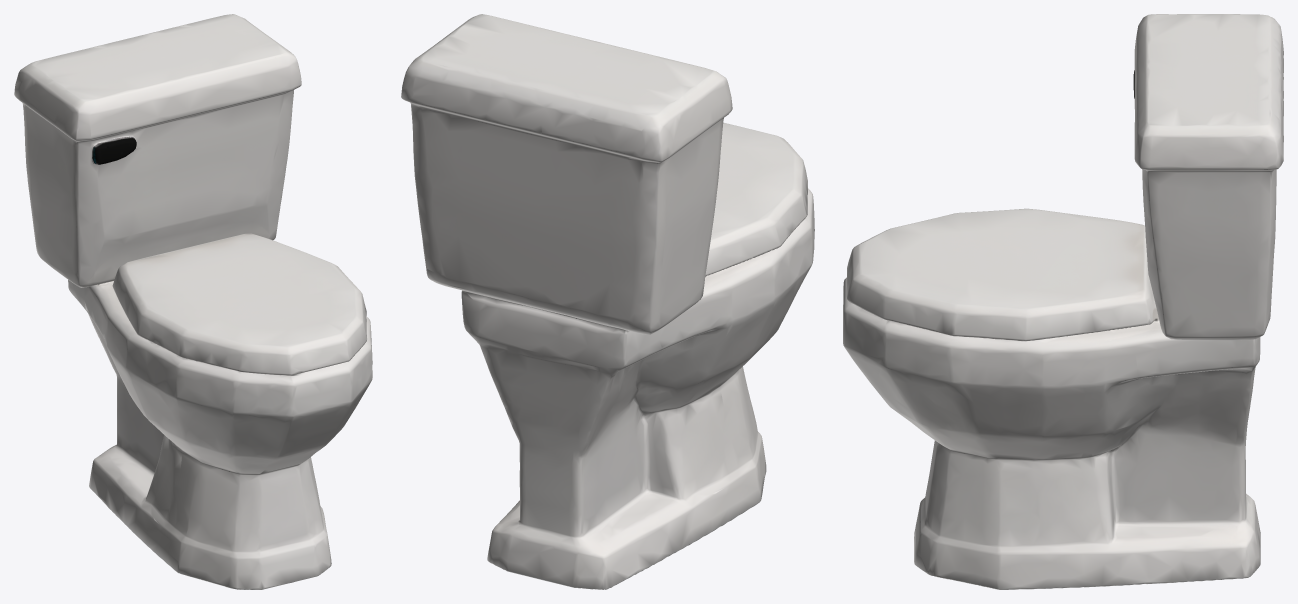
The model's file is toilet_lod.glb.
3 renders of one model, left to right at view 1: azimuth 30°, elevation 25°; view 2: azimuth 150°, elevation 25°; view 3: azimuth 270°, elevation 25°, orthographic. The views are drawn at different scales.
Parts seen in each view (by area): view 1: world; view 2: world; view 3: world.
Part boxes in pixels (x1,y1,x2,y2): world: (14,14,372,589); world: (401,14,814,589); world: (843,14,1283,589).
Bounding box in the file's own units: 0.5573 × 1 × 0.8319.
1 material, 1 textured.
